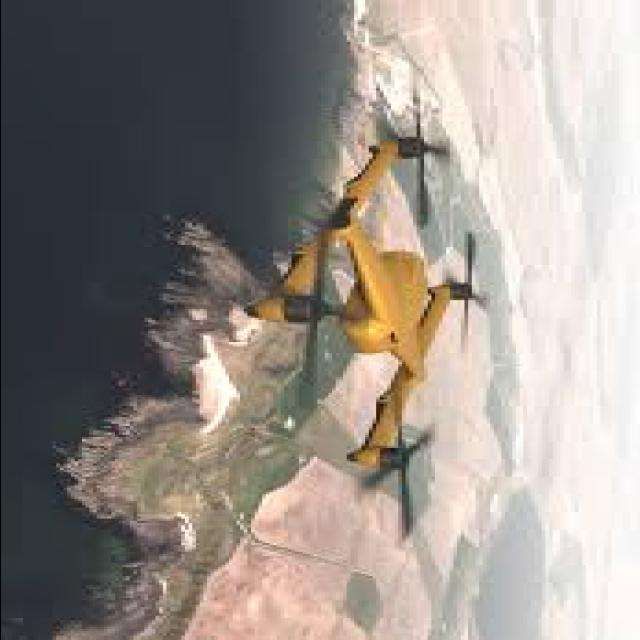drone: (246, 89, 494, 526)
